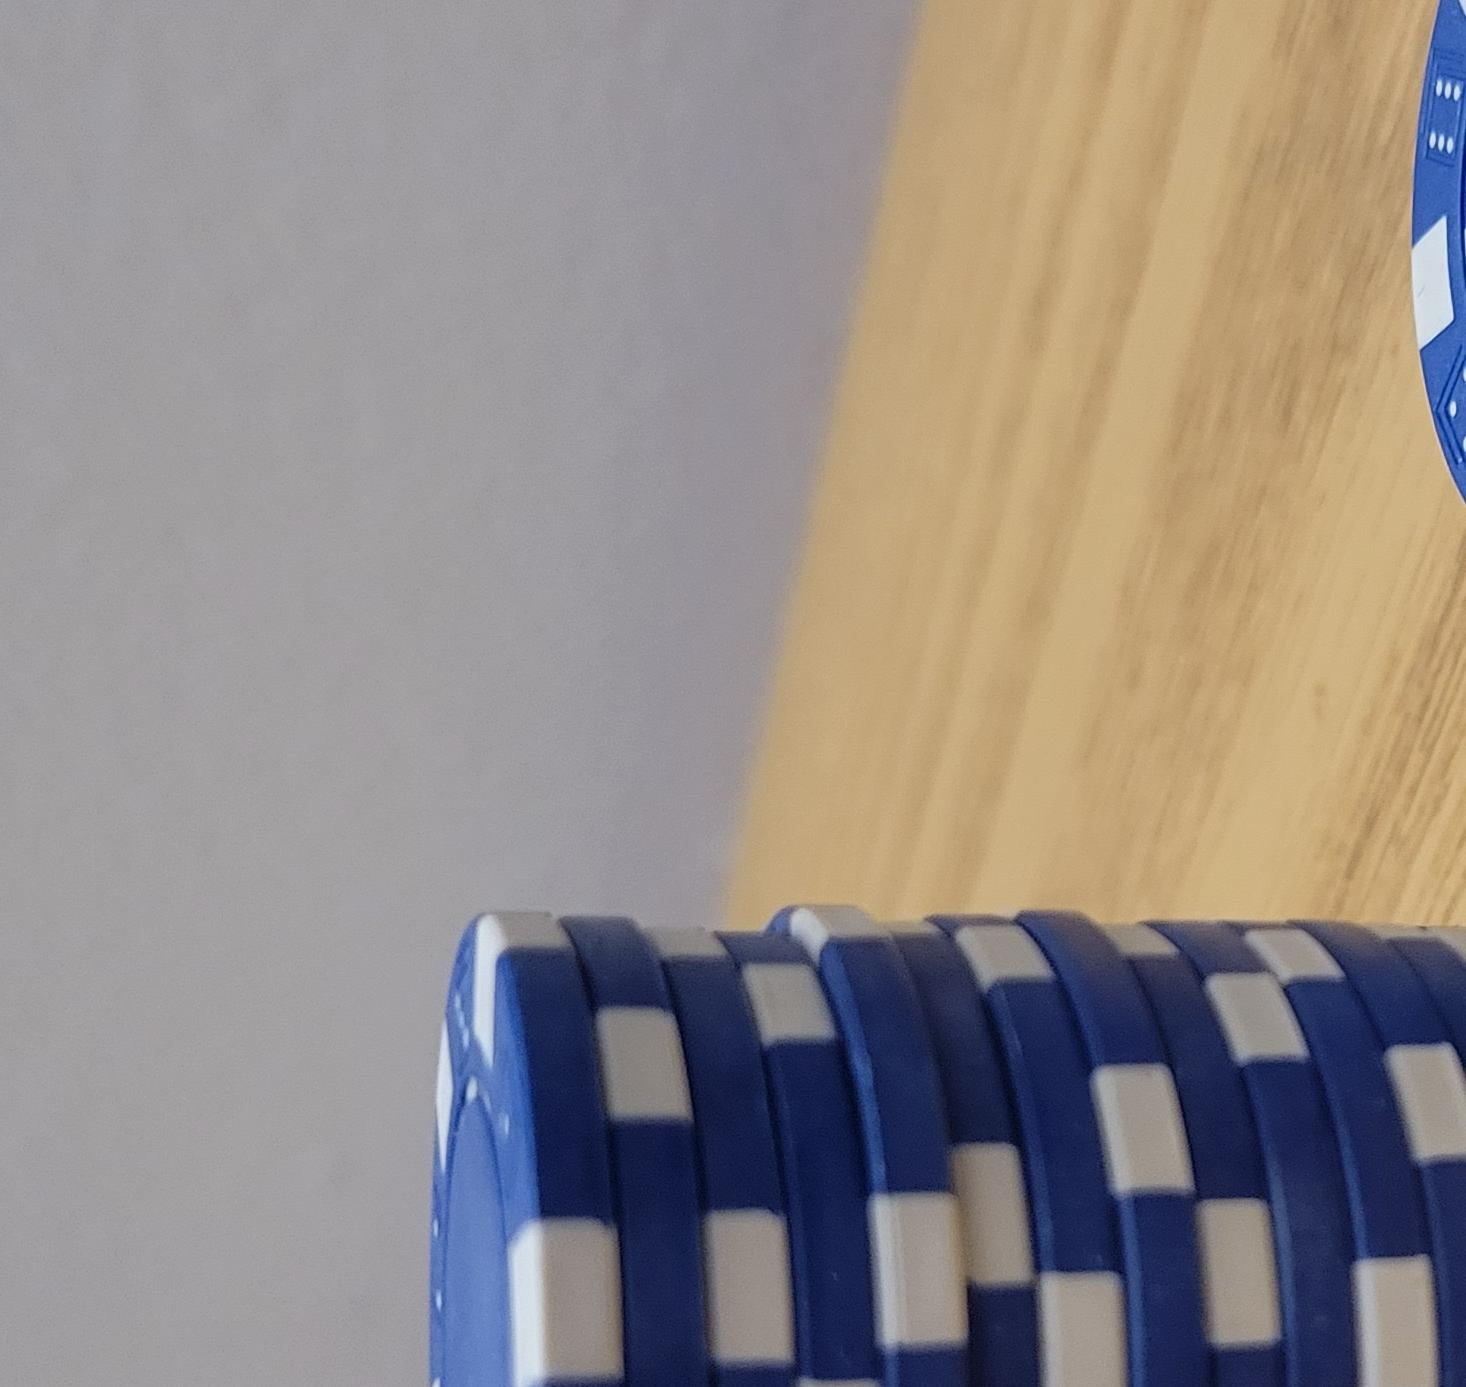Chip: (1, 228, 956, 1387)
